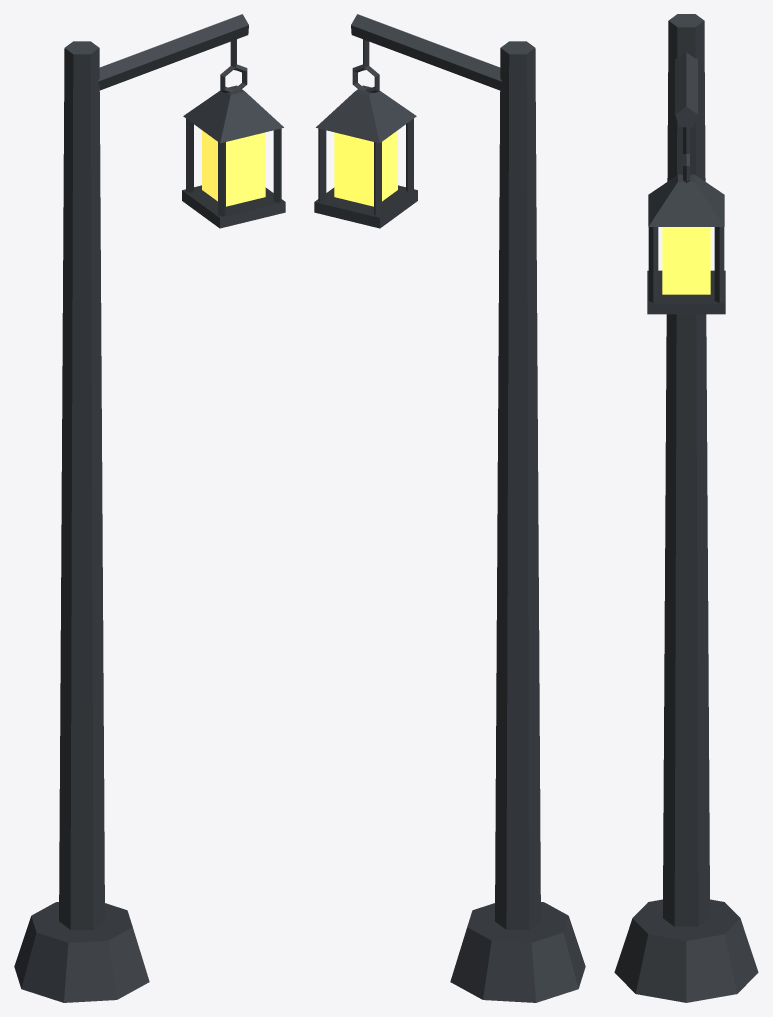
File: lamppost.glb
The picture shows the model from 3 angles, left to right: view 1: azimuth 30°, elevation 25°; view 2: azimuth 150°, elevation 25°; view 3: azimuth 270°, elevation 25°; orthographic projection. The views are drawn at different scales.
Visible parts, largest first — view 1: Lamppost; view 2: Lamppost; view 3: Lamppost.
Part boxes in pixels (x1=…): Lamppost: x1=14, y1=14, x2=285, y2=1002; Lamppost: x1=314, y1=14, x2=585, y2=1002; Lamppost: x1=614, y1=14, x2=758, y2=1002.
Size of the model in its own units: 0.485 by 1.75 by 0.24.
